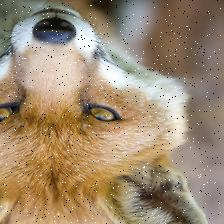fox: (0, 0, 221, 224)
